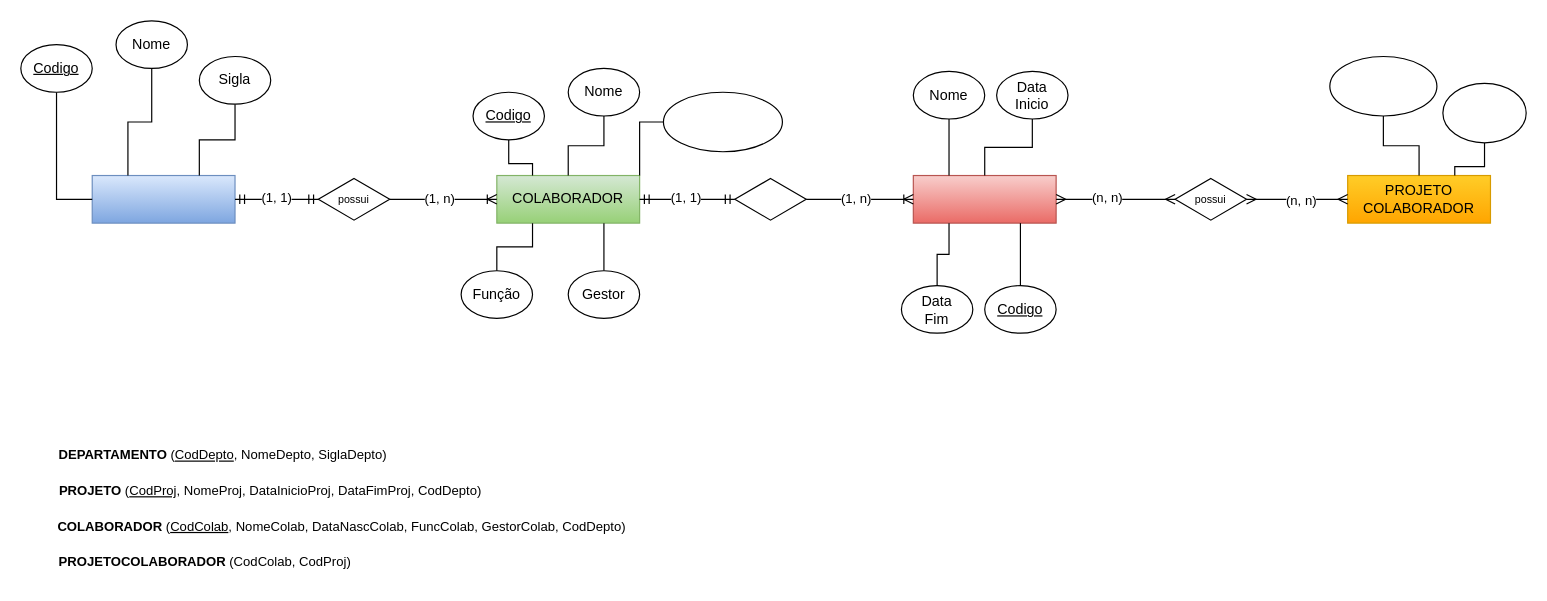
Some shapes in this 1547 by 601 pixel diagram are drawn without their labels. The shapes that lost their labels are listed below. From the top down, each one's centre as x and y in pixels, then its label:
(x=1383, y=85): Codigo Colaborador
(x=722, y=121): Data Nascimento
(x=1484, y=112): Codigo Projeto
(x=163, y=198): DEPARTAMENTO
(x=770, y=198): pertence
(x=984, y=198): PROJETO
